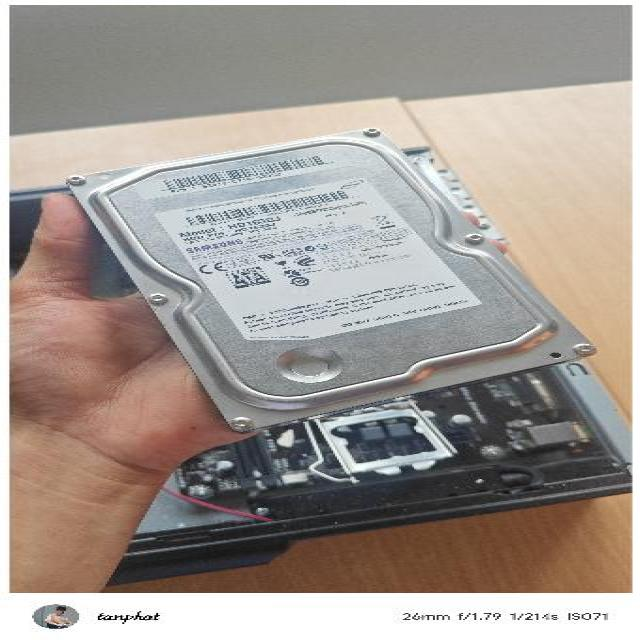DISK: (59, 124, 598, 436)
